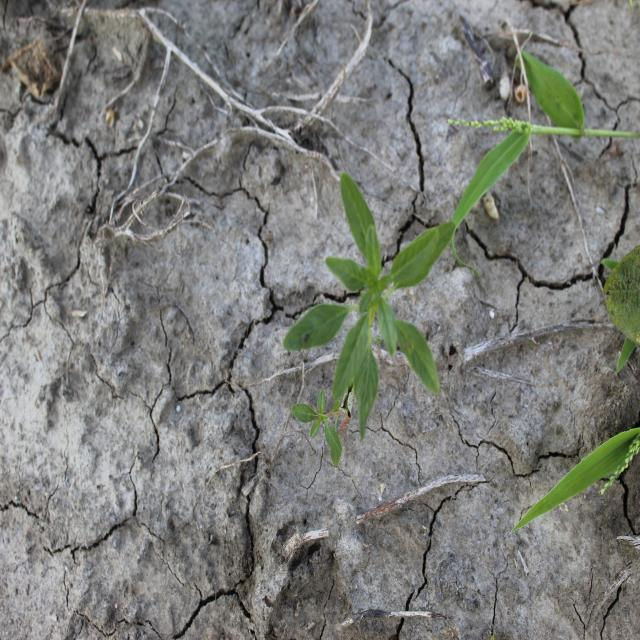Waterhemp: (282, 171, 457, 468)
